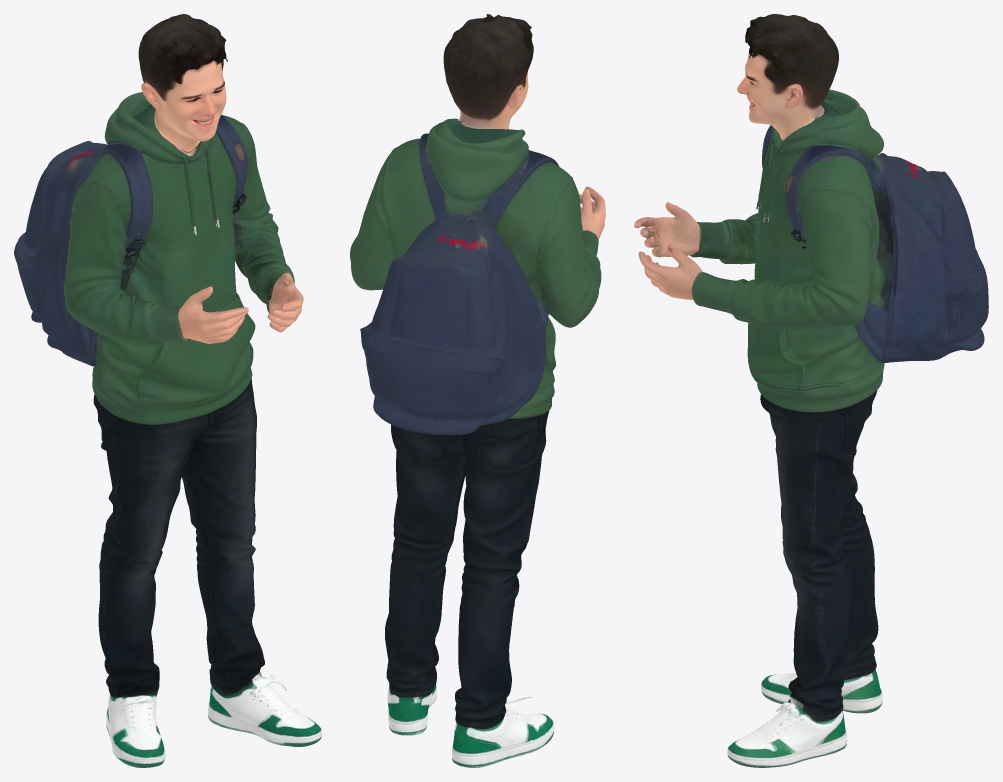
File: students.glb
3 views of the same model, side by side, from view 1: azimuth 30°, elevation 25°; view 2: azimuth 150°, elevation 25°; view 3: azimuth 270°, elevation 25° (orthographic). The views are drawn at different scales.
Visible parts, largest first — view 1: Object_5; view 2: Object_5; view 3: Object_5.
Part boxes in pixels (box(x1,y1,x2,y2)): Object_5: box(14, 14, 321, 767); Object_5: box(350, 14, 605, 767); Object_5: box(634, 14, 988, 767).
Size of the model in its own units: 0.6116 by 1.9 by 0.8733.
Materials: 1 (1 with a texture image).
